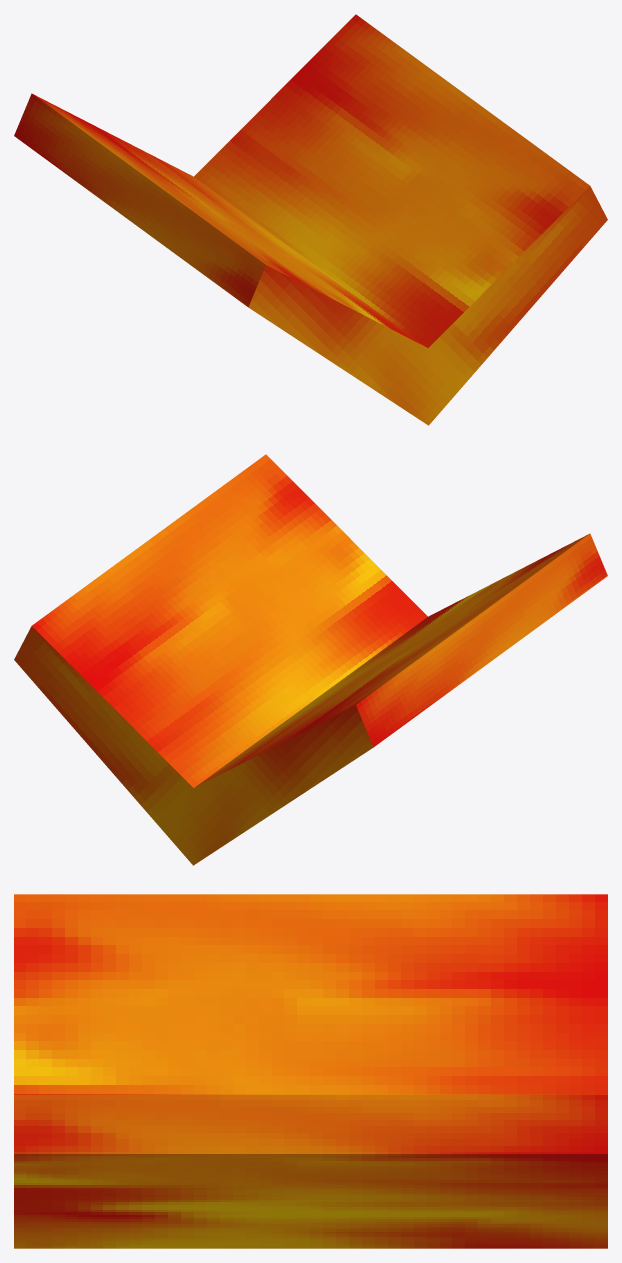
Rendered from beam.FBX.
3 views of the same model, one above another, from view 1: azimuth 30°, elevation 25°; view 2: azimuth 150°, elevation 25°; view 3: azimuth 270°, elevation 25° (orthographic). The views are drawn at different scales.
Parts seen in each view (by area): view 1: Line001; view 2: Line001; view 3: Line001.
Boxes of the visible parts, bbox=[...] form: Line001: bbox=[14, 14, 607, 425]; Line001: bbox=[14, 454, 607, 865]; Line001: bbox=[14, 894, 607, 1248].
Size of the model in its own units: 19.55 by 10.42 by 22.07.
